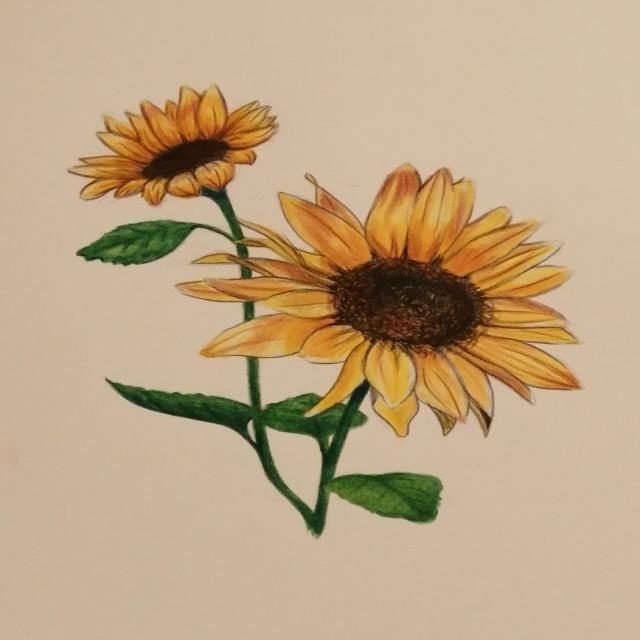sunflower: (173, 162, 582, 438), (66, 82, 279, 206)
